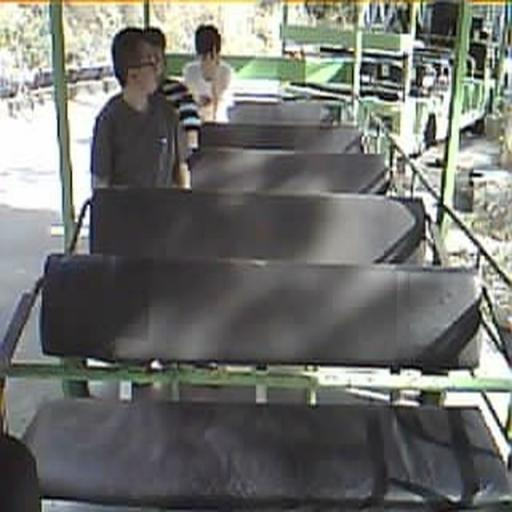persona: (90, 26, 192, 191), (142, 28, 200, 154), (182, 24, 232, 122)
